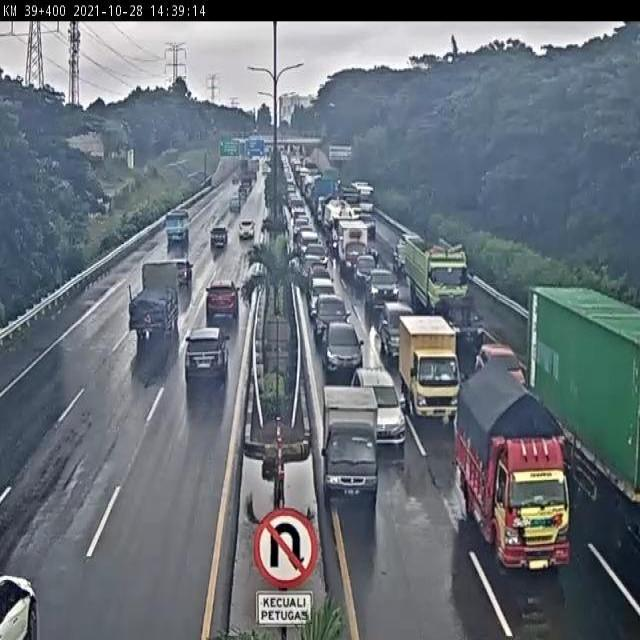big truck: (520, 276, 640, 545), (402, 230, 480, 334)
car: (348, 365, 413, 451), (0, 542, 52, 640), (175, 324, 236, 393), (468, 338, 532, 393), (320, 316, 368, 385), (439, 296, 486, 357), (373, 296, 415, 360), (199, 284, 243, 339), (310, 294, 350, 346), (366, 266, 403, 314), (203, 222, 230, 258), (237, 212, 259, 247)
mid truck: (450, 356, 573, 580), (393, 312, 458, 429), (119, 255, 194, 353), (158, 208, 193, 251)
small truck: (316, 373, 386, 512)
